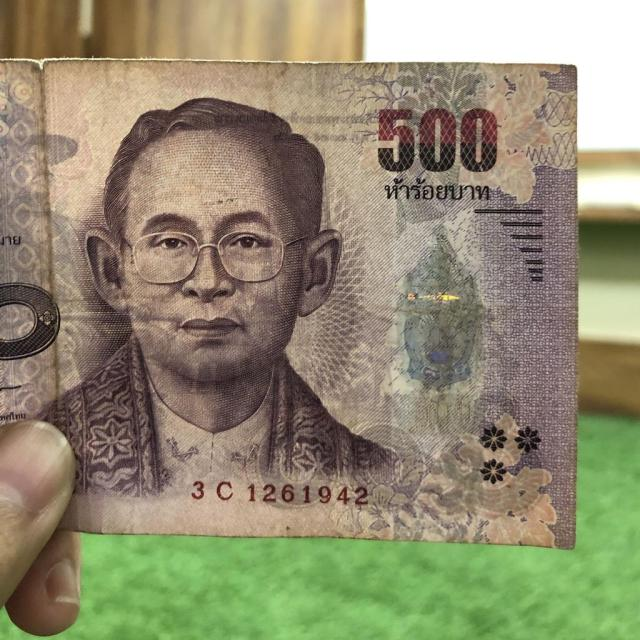THAI500: (0, 59, 579, 552)
